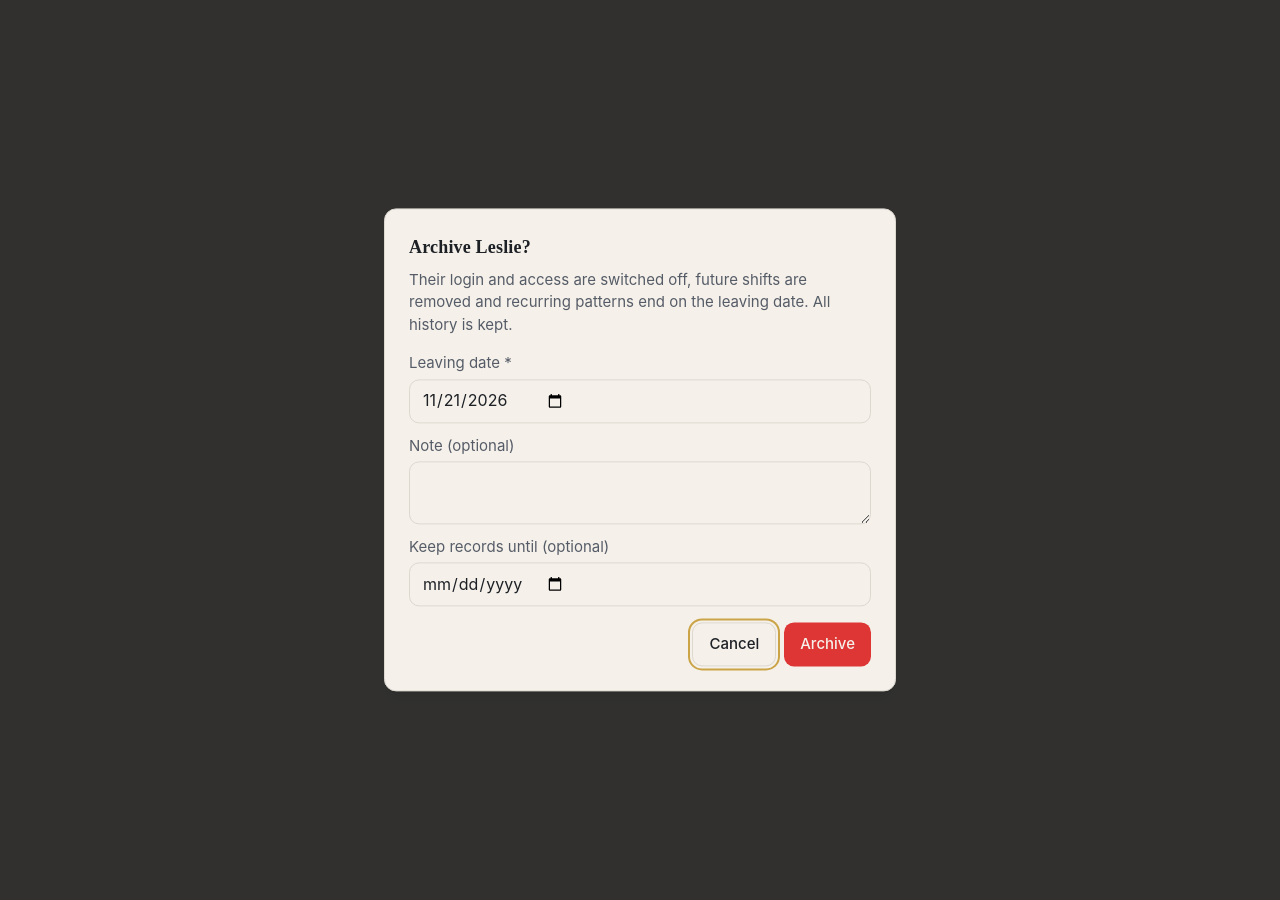
Test: shows the server error when archiving fails
Step 1. Click the button "Archive" → {"x": 828, "y": 645}, box [784,623,871,667]
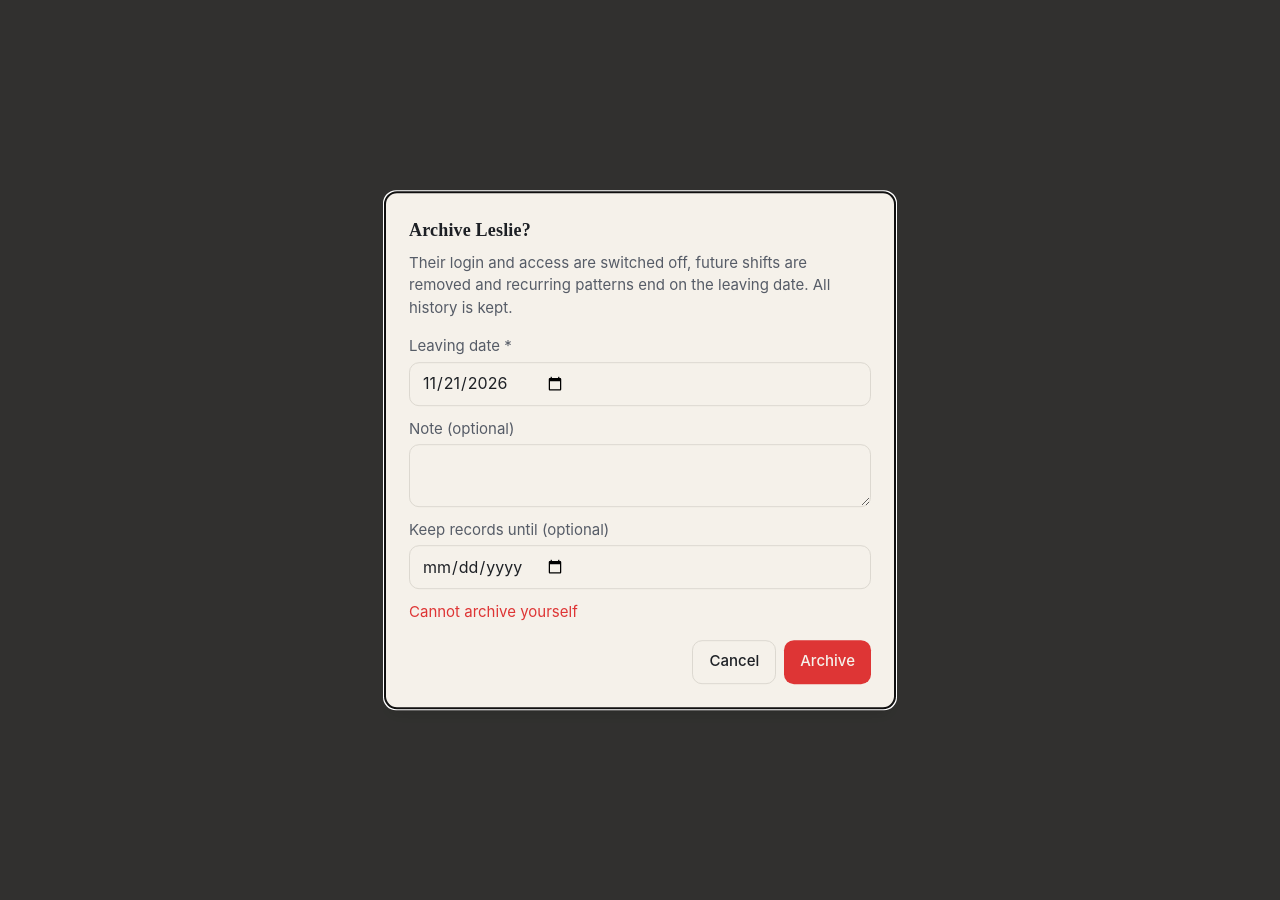
Expected: the text "Cannot archive yourself" is shown, [409,602,578,621]
